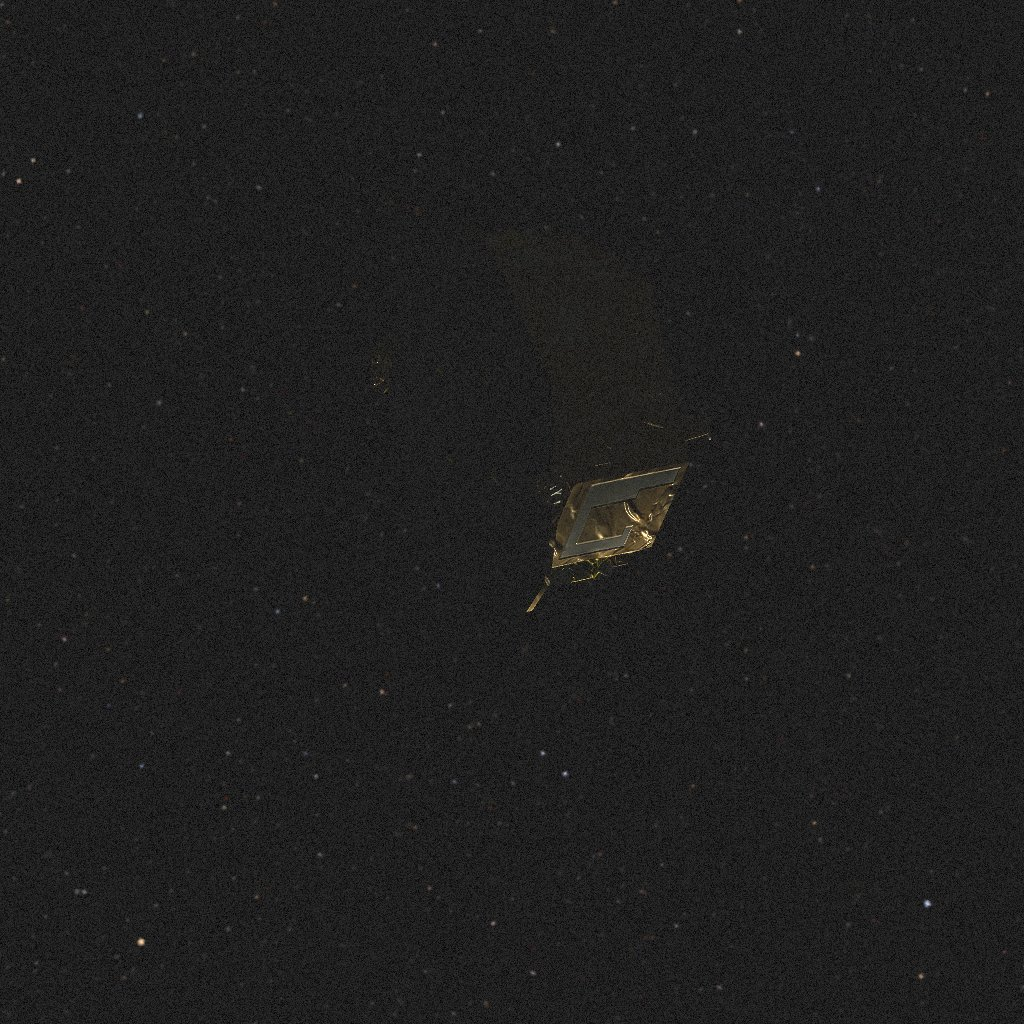lisa_pathfinder: (369, 217, 711, 612)
